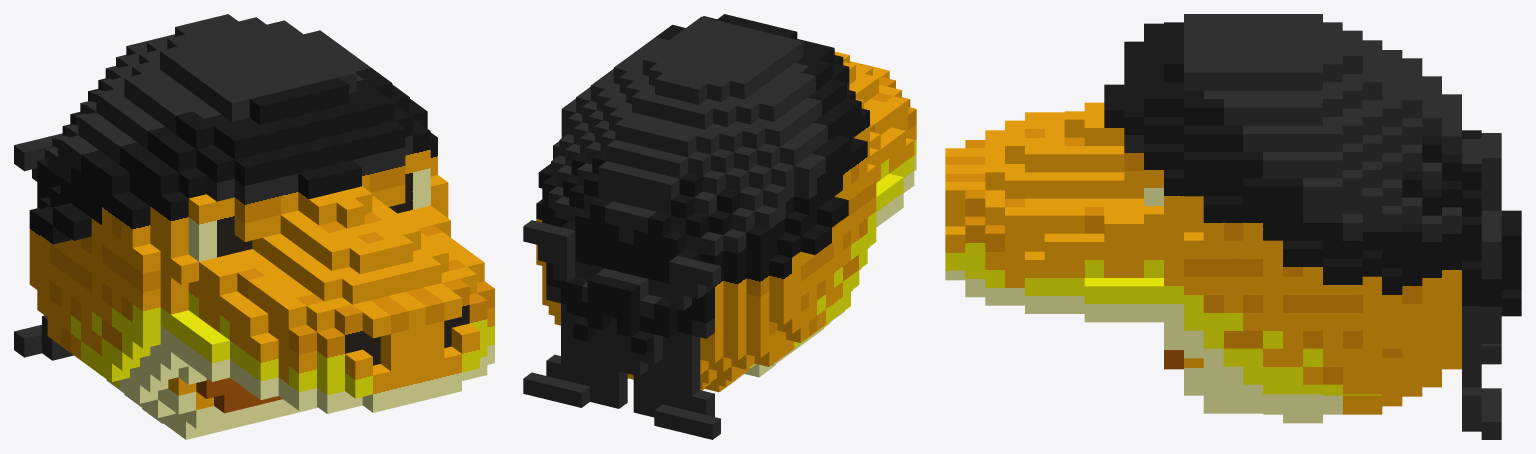
File: black durag_skydiving goggles.gltf
The picture shows the model from 3 angles, left to right: view 1: azimuth 30°, elevation 25°; view 2: azimuth 150°, elevation 25°; view 3: azimuth 270°, elevation 25°; orthographic projection. The views are drawn at different scales.
Visible parts, largest first — view 1: C17_H_blacDurag_sky-Mesh; view 2: C17_H_blacDurag_sky-Mesh; view 3: C17_H_blacDurag_sky-Mesh.
Part boxes in pixels (x1,y1,x2,y2): C17_H_blacDurag_sky-Mesh: (14,14,494,439); C17_H_blacDurag_sky-Mesh: (523,14,916,439); C17_H_blacDurag_sky-Mesh: (945,14,1521,439).
Bounding box in the file's own units: 19 × 19 × 29.
1 material, 1 textured.
